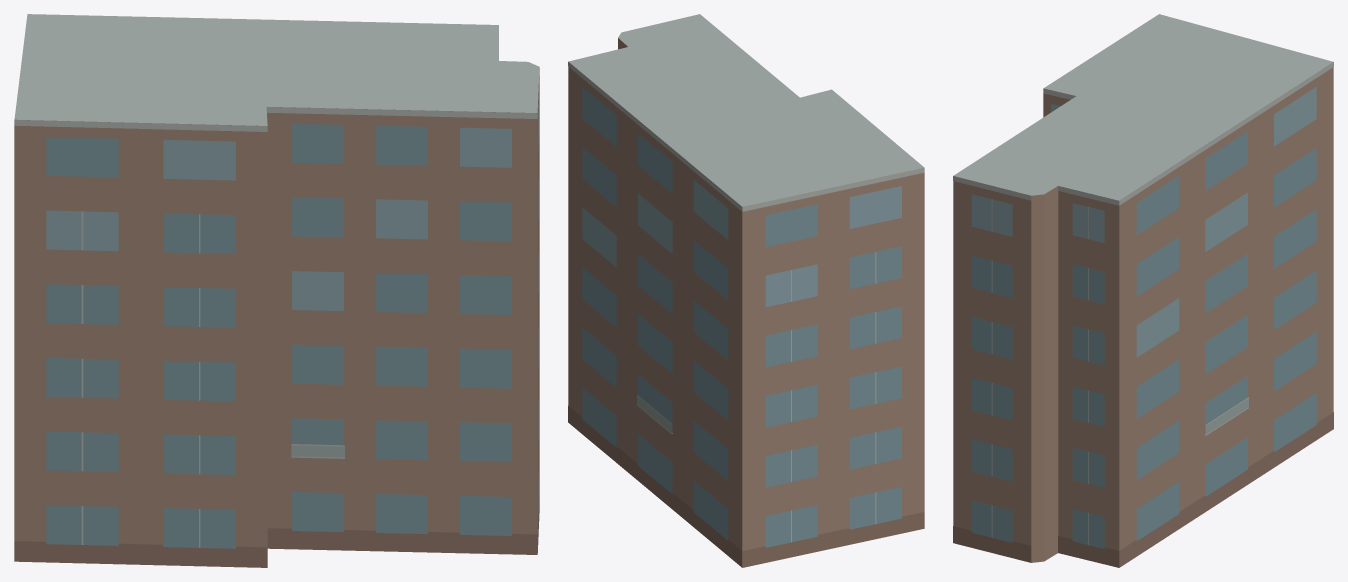
Rendered from survey-upis-32512595.glb.
3 renders of one model, left to right at view 1: azimuth 30°, elevation 25°; view 2: azimuth 150°, elevation 25°; view 3: azimuth 270°, elevation 25°, orthographic. The views are drawn at different scales.
Parts seen in each view (by area): view 1: survey-upis-32512595.tmp; view 2: survey-upis-32512595.tmp; view 3: survey-upis-32512595.tmp.
Part boxes in pixels (x1,y1,x2,y2): survey-upis-32512595.tmp: (14,14,539,567); survey-upis-32512595.tmp: (568,14,924,567); survey-upis-32512595.tmp: (953,14,1333,567).
Bounding box in the file's own units: 19.53 × 17.9 × 16.83.
